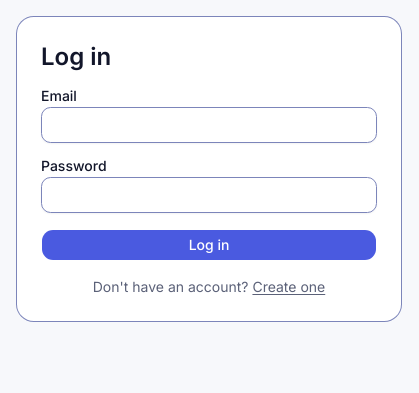
LoginPage › shows a generic error message when login fails for a non-credentials reason
Type "me@example.com" into the field labelled "Email" at {"x": 209, "y": 125}, box [41,107,377,143]
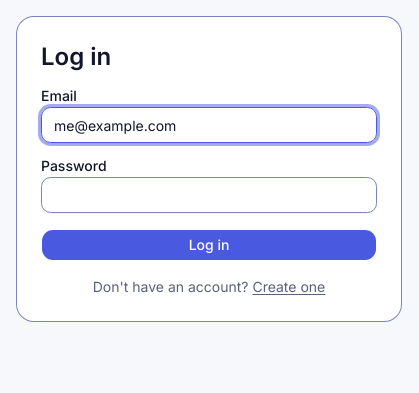
Type "correct-horse-battery-staple" into the password field labelled "Password" at {"x": 209, "y": 195}, box [41,177,377,213]
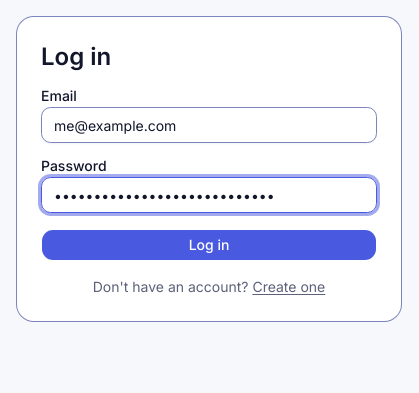
Click the button "Log in" at {"x": 209, "y": 245}, box [41,229,377,261]
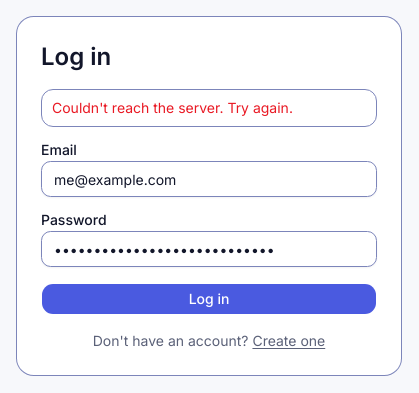
Expected: the text "Couldn't reach the server. Try again." is shown, [52,99,293,116]
